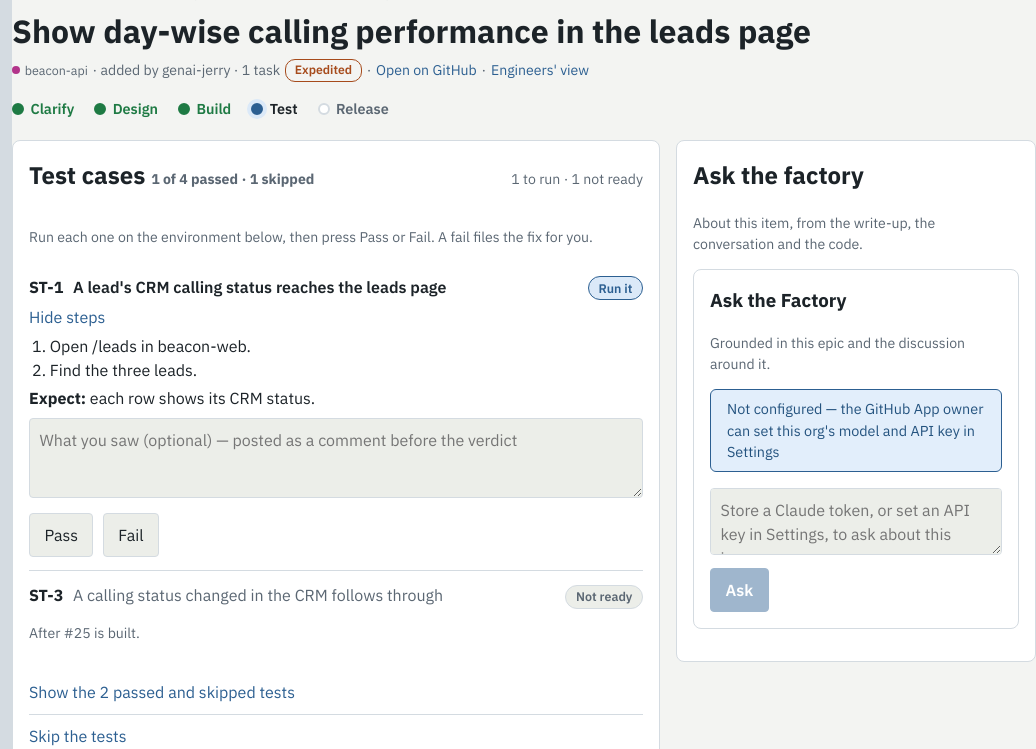
Test case: WorkItemPage at Test › puts the item at Test and lists the cases with their standing
Expected: the heading "Test cases 1 of 4 passed · 1 skipped" is shown, [29,157,314,193]
Expected: the element with class "now" reads "Test", [270,99,298,118]
Note: Passed and skipped cases are folded away together.
Click the button "Show the 2 passed and skipped tests".
click(162, 692)  # box [29,680,295,704]
(page scrolled)
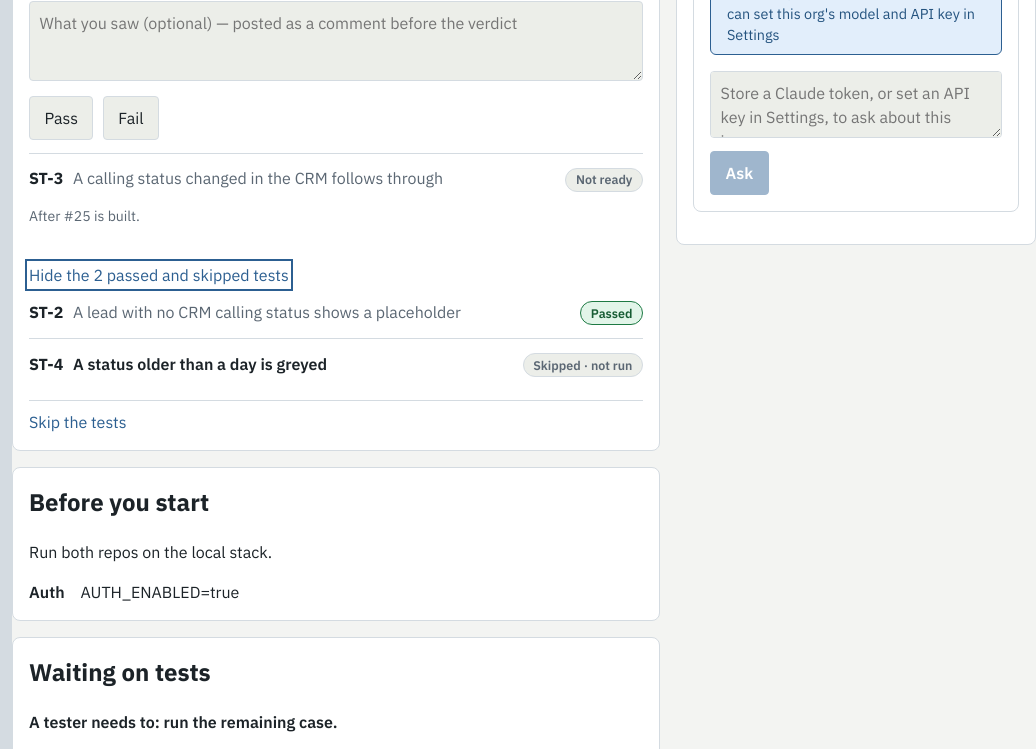
Expected: the text "Skipped · not run" is shown, [523,353,643,377]
